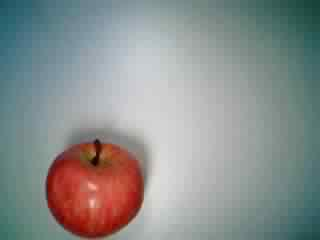apple: (44, 136, 151, 239)
